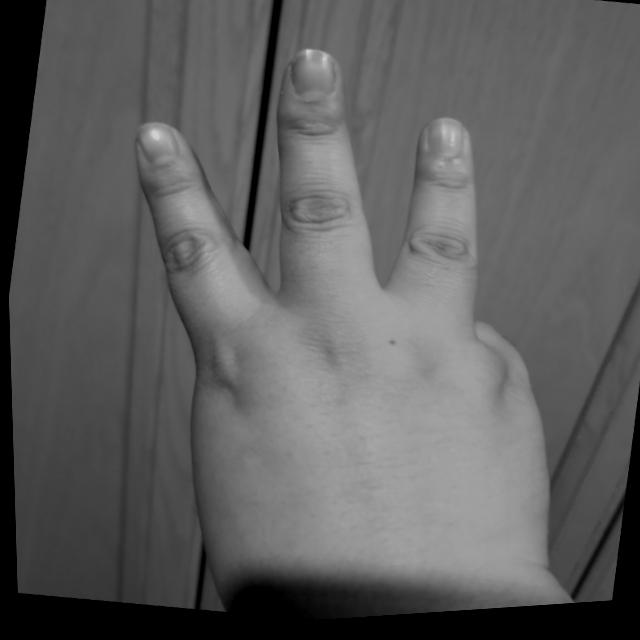W: (49, 1, 639, 637)
